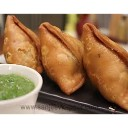samosa: (82, 23, 128, 108), (39, 22, 89, 93), (3, 16, 44, 73)
